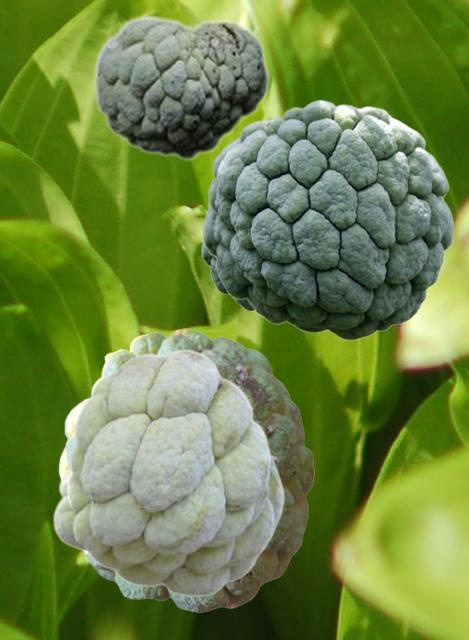atis: (58, 328, 313, 611), (202, 99, 453, 340), (52, 348, 284, 596), (93, 14, 269, 160), (201, 204, 253, 311)
